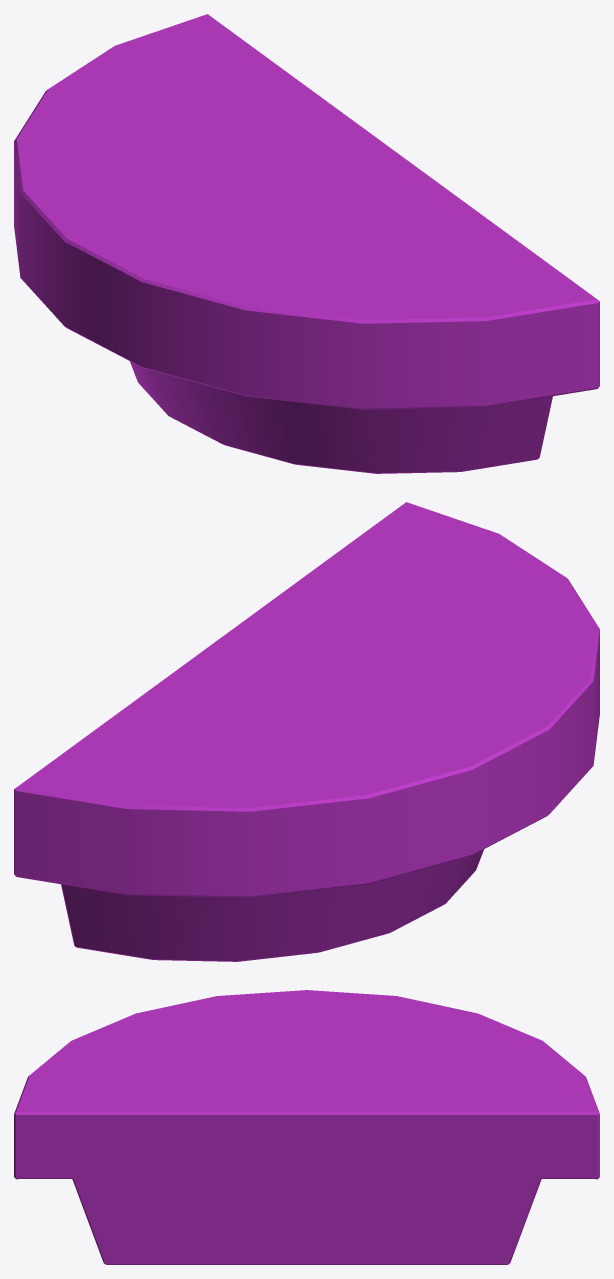
The model's file is Statues_Grp_07A.fbx.
3 views of the same model, one above another, from view 1: azimuth 30°, elevation 25°; view 2: azimuth 150°, elevation 25°; view 3: azimuth 270°, elevation 25° (orthographic). The views are drawn at different scales.
Visible parts, largest first — view 1: Statues_Grp_07A; view 2: Statues_Grp_07A; view 3: Statues_Grp_07A.
Part boxes in pixels (x1,y1,x2,y2): Statues_Grp_07A: (14,14,599,473); Statues_Grp_07A: (14,502,599,961); Statues_Grp_07A: (14,990,599,1264).
Size of the model in its own units: 128 by 73.44 by 255.
